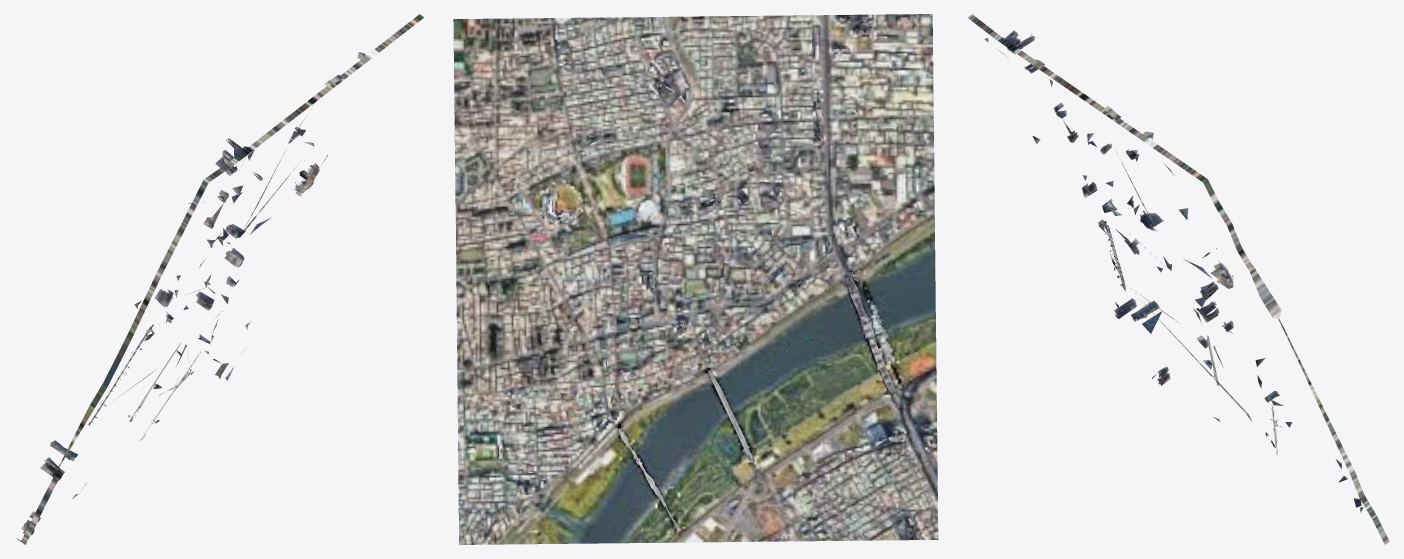
3 views of the same model, side by side, from view 1: azimuth 30°, elevation 25°; view 2: azimuth 150°, elevation 25°; view 3: azimuth 270°, elevation 25° (orthographic). The views are drawn at different scales.
Size of the model in its own units: 2468 by 2257 by 2061.
1 material, 1 textured.
